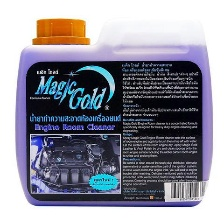cleaning_solution: (12, 11, 217, 209)
